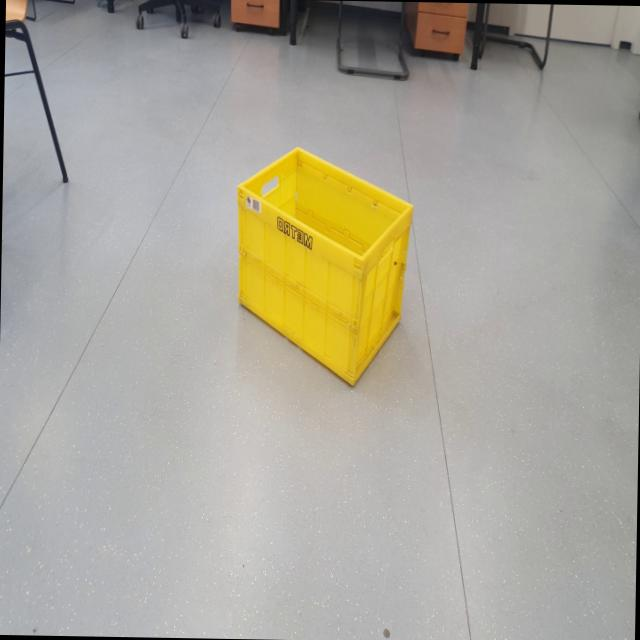box: (234, 134, 417, 394)
